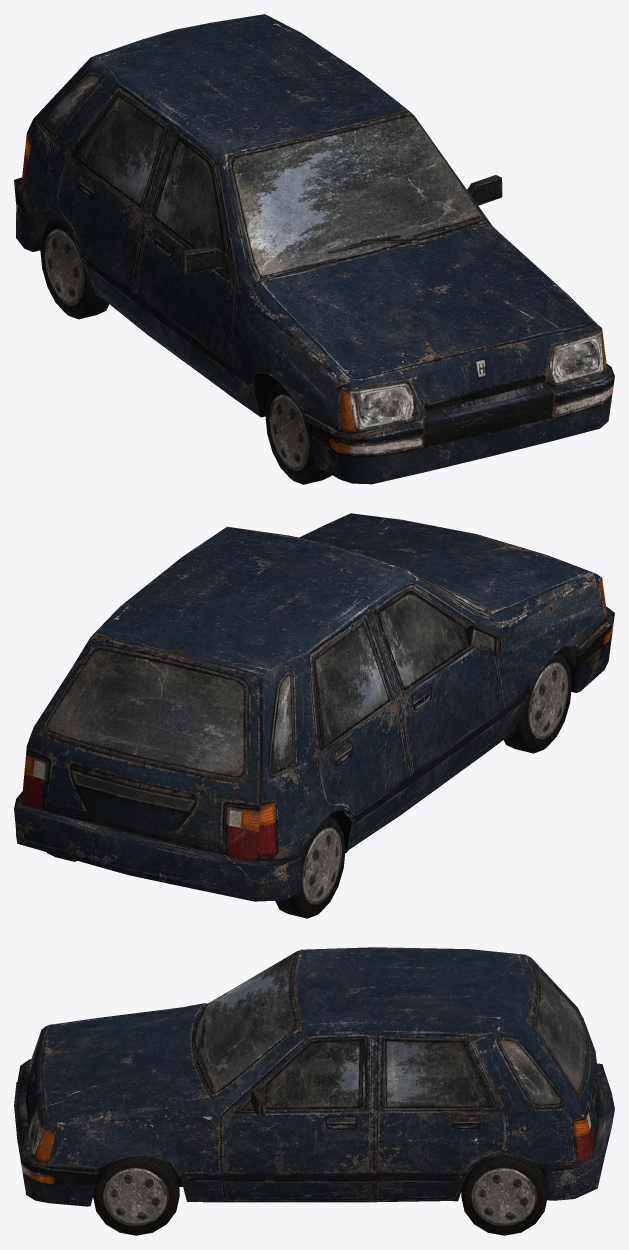
The model's file is Car01.fbx.
The picture shows the model from 3 angles, top to bottom: view 1: azimuth 30°, elevation 25°; view 2: azimuth 150°, elevation 25°; view 3: azimuth 270°, elevation 25°; orthographic projection. The views are drawn at different scales.
Visible parts, largest first — view 1: Car01; view 2: Car01; view 3: Car01.
Part boxes in pixels (bbox=[...]): Car01: bbox=[14, 14, 614, 484]; Car01: bbox=[14, 513, 614, 918]; Car01: bbox=[14, 947, 614, 1235].
Size of the model in its own units: 1.8 by 1.35 by 3.6.
